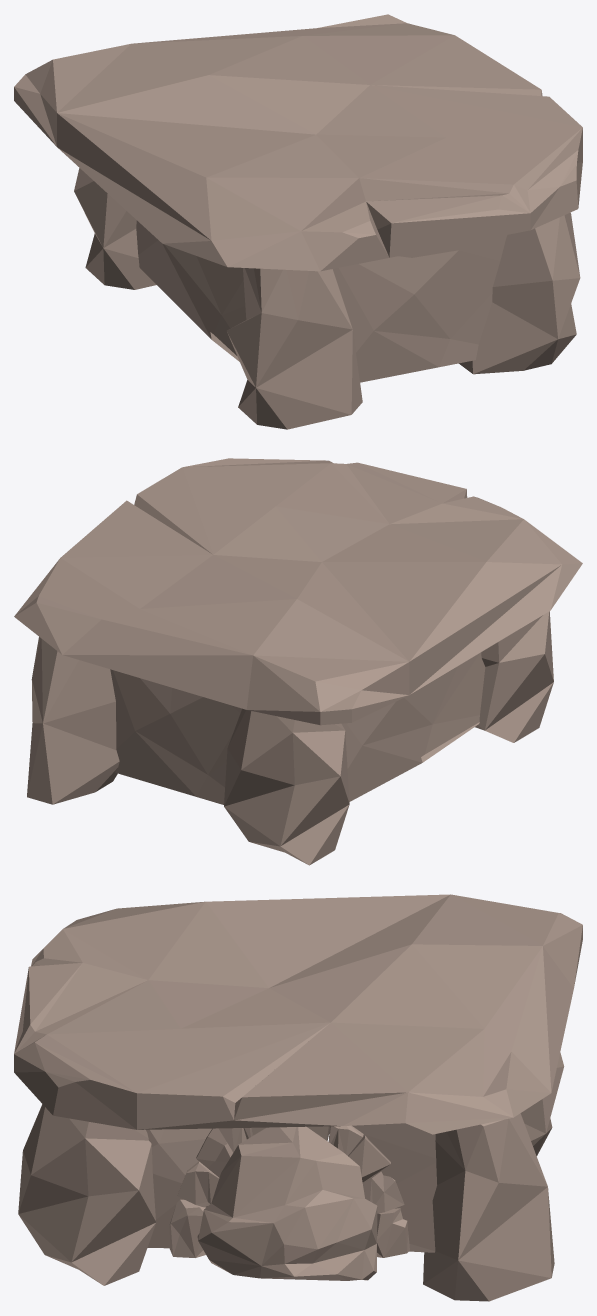
File: House.fbx
The picture shows the model from 3 angles, top to bottom: view 1: azimuth 30°, elevation 25°; view 2: azimuth 150°, elevation 25°; view 3: azimuth 270°, elevation 25°; orthographic projection. The views are drawn at different scales.
Visible parts, largest first — view 1: polySurface607; view 2: polySurface607; view 3: polySurface607.
Boxes of the visible parts, x1=… form: polySurface607: x1=14, y1=14, x2=582, y2=429; polySurface607: x1=14, y1=458, x2=582, y2=865; polySurface607: x1=14, y1=894, x2=582, y2=1301.
Bounding box in the file's own units: 0.0228 × 0.0113 × 0.025.
